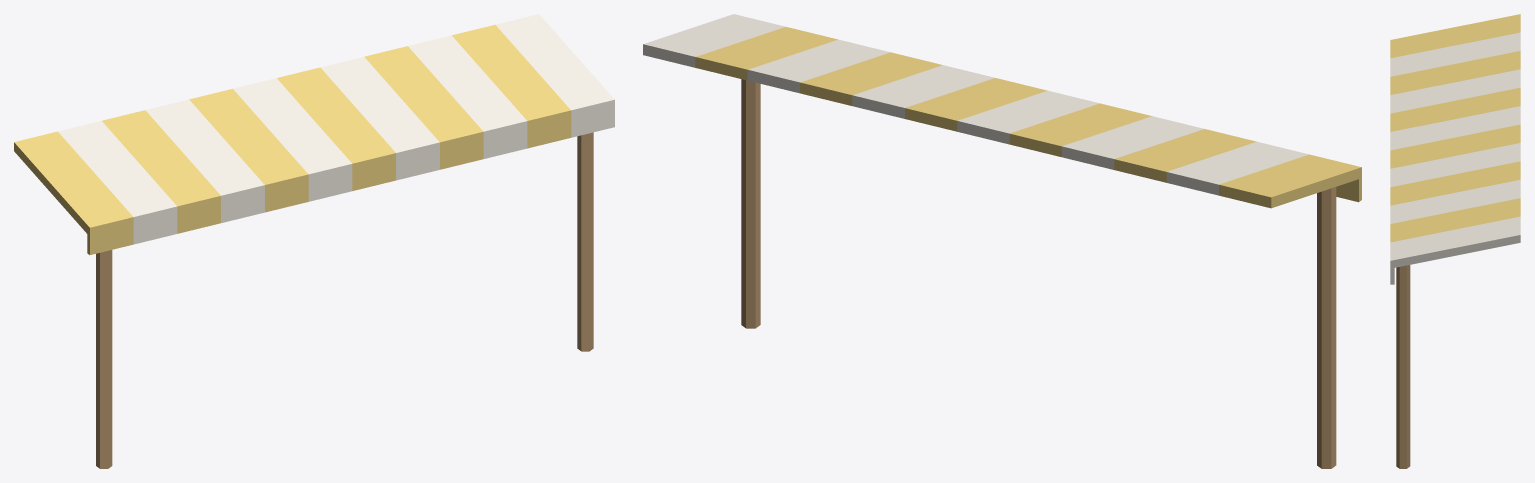
The model's file is awning_w6_0_lilac.glb.
3 views of the same model, side by side, from view 1: azimuth 30°, elevation 25°; view 2: azimuth 150°, elevation 25°; view 3: azimuth 270°, elevation 25° (orthographic). The views are drawn at different scales.
Parts seen in each view (by area): view 1: Player; view 2: Player; view 3: Player.
Part boxes in pixels (x1=…): Player: x1=14, y1=14, x2=614, y2=468; Player: x1=643, y1=14, x2=1361, y2=468; Player: x1=1390, y1=14, x2=1520, y2=468.
Size of the model in its own units: 6 by 3.05 by 1.5.
